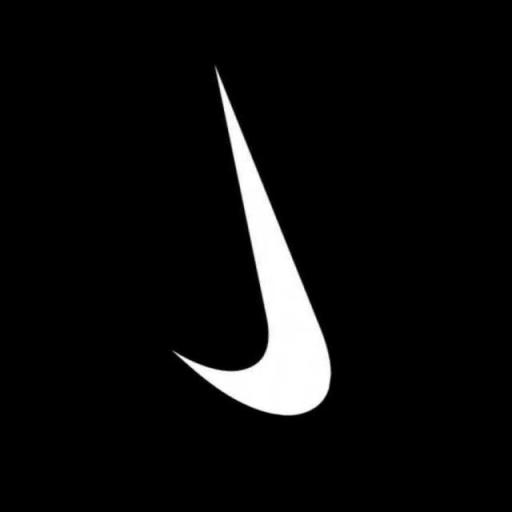Nike: (162, 60, 376, 427)
